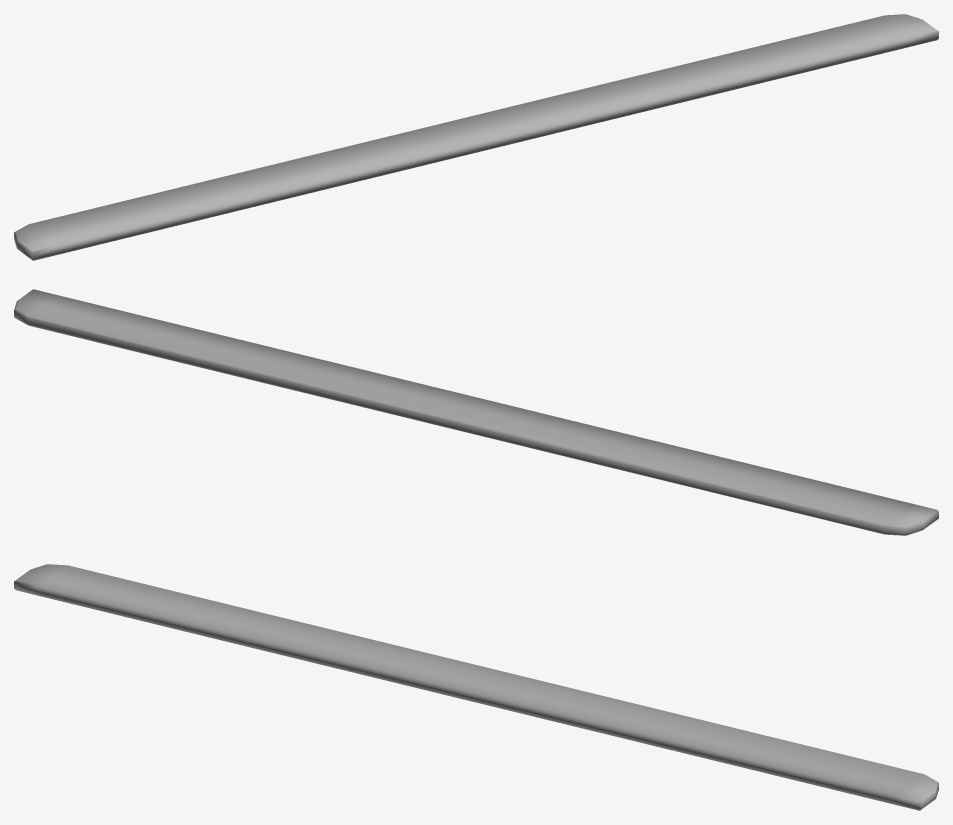
The model's file is Hea_Ba_Window_Support.fbx.
3 views of the same model, one above another, from view 1: azimuth 30°, elevation 25°; view 2: azimuth 150°, elevation 25°; view 3: azimuth 330°, elevation 25° (orthographic).
Parts seen in each view (by area): view 1: Windowsill_Toilet; view 2: Windowsill_Toilet; view 3: Windowsill_Toilet.
Part boxes in pixels (x1,y1,x2,y2): Windowsill_Toilet: [14, 14, 938, 260]; Windowsill_Toilet: [14, 289, 938, 535]; Windowsill_Toilet: [14, 564, 938, 810].
Bounding box in the file's own units: 387 × 4 × 21.75.
